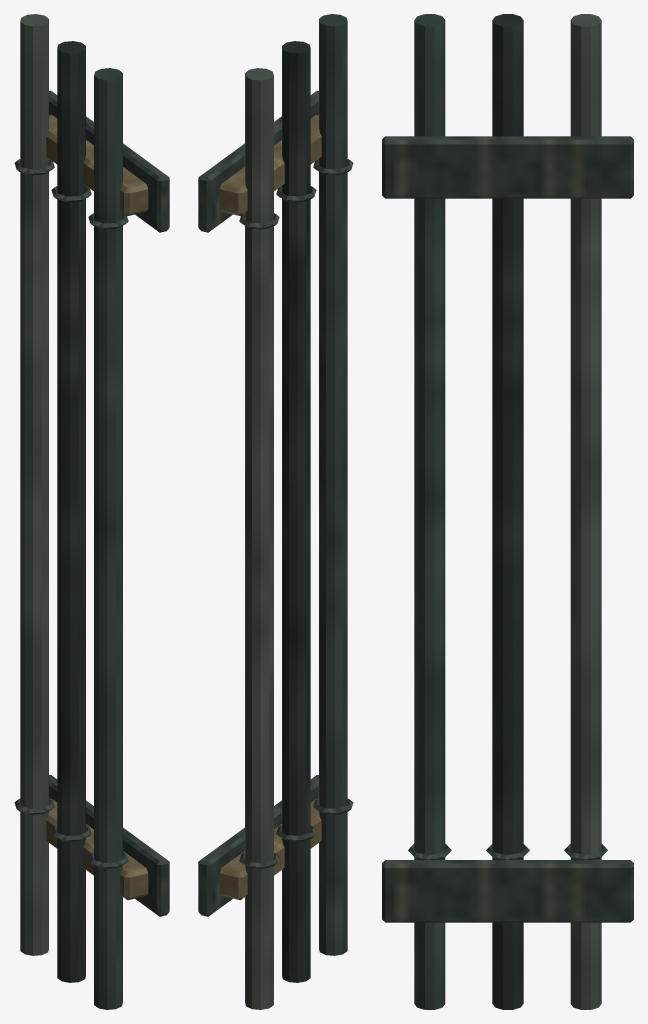
Rendered from SH_POC_UtilityPipes.fbx.
The picture shows the model from 3 angles, left to right: view 1: azimuth 30°, elevation 25°; view 2: azimuth 150°, elevation 25°; view 3: azimuth 270°, elevation 25°; orthographic projection. The views are drawn at different scales.
Visible parts, largest first — view 1: SH_POC_UtilityPipes; view 2: SH_POC_UtilityPipes; view 3: SH_POC_UtilityPipes.
Part boxes in pixels (box(x1,y1,x2,y2)): SH_POC_UtilityPipes: box(14, 14, 169, 1009); SH_POC_UtilityPipes: box(198, 14, 353, 1009); SH_POC_UtilityPipes: box(382, 14, 633, 1009).
Bounding box in the file's own units: 0.1635 × 2.5 × 0.58.
1 material, 1 textured.
